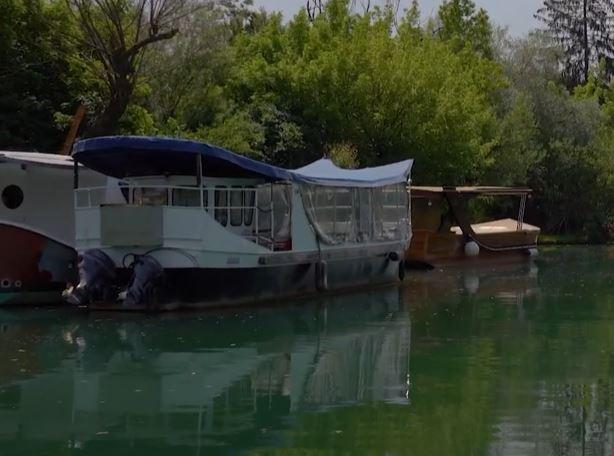Ship: (63, 128, 422, 303)
